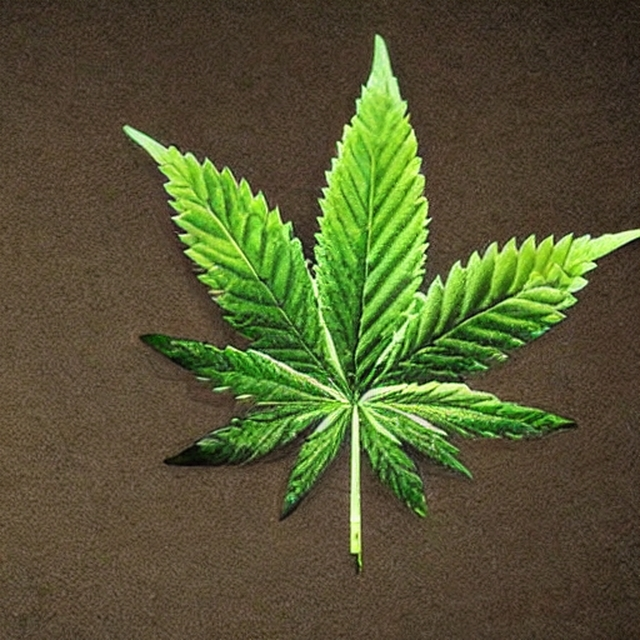Marijuana Leaf: (119, 30, 639, 572)
